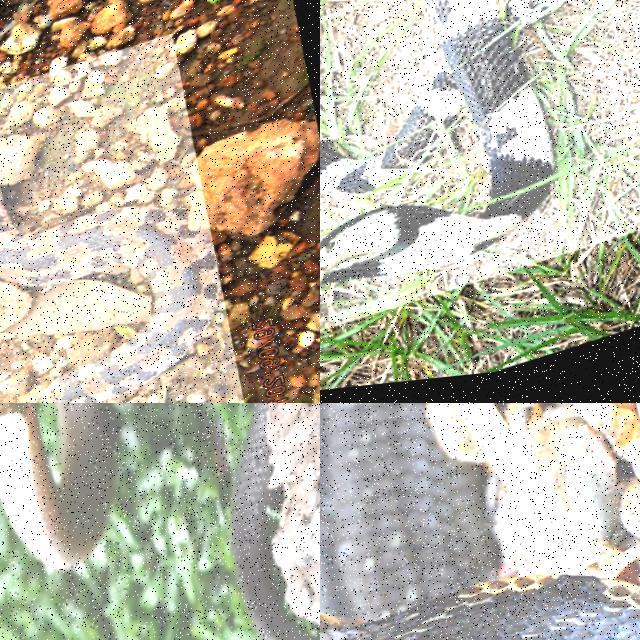Naja kaouthia: (0, 403, 112, 569)
Naja siamensis: (320, 0, 553, 326)
Ophiophagus hannah: (320, 403, 639, 639)
Ovophis monticola: (0, 189, 218, 402)
snake: (320, 0, 553, 326), (320, 403, 639, 639), (0, 189, 218, 402), (0, 403, 112, 569)
